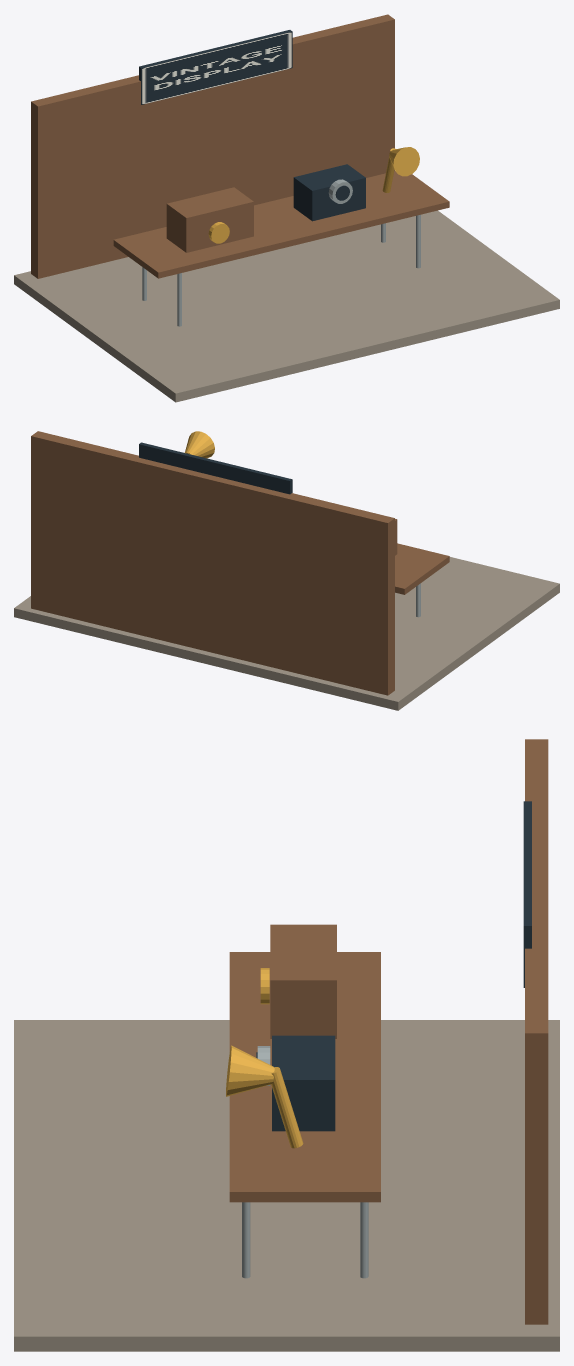
File: scendance-plan-vintage-display.glb
The picture shows the model from 3 angles, top to bottom: view 1: azimuth 30°, elevation 25°; view 2: azimuth 150°, elevation 25°; view 3: azimuth 270°, elevation 25°; orthographic projection. The views are drawn at different scales.
Bounding box in the file's own units: 4.5 × 2.18 × 3.28.
6 materials, 1 textured.
